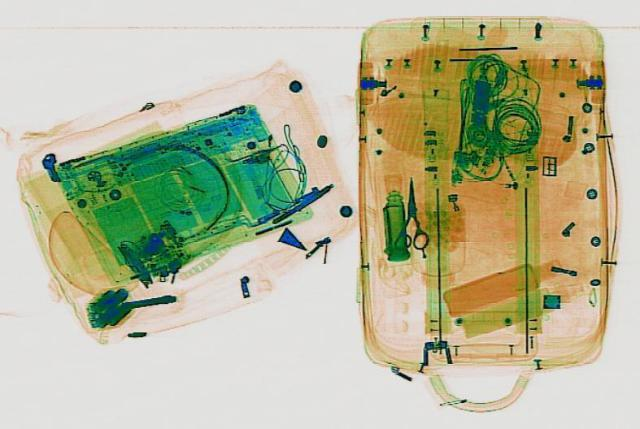Scissors: (389, 177, 428, 248)
